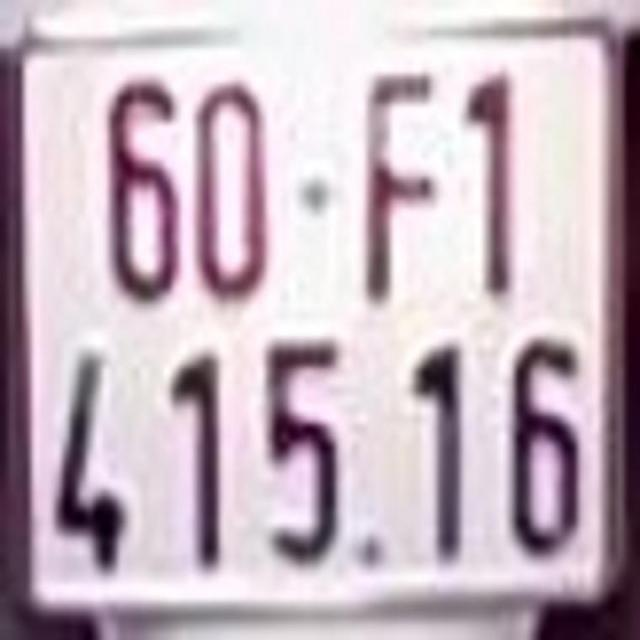0: (188, 72, 274, 304)
1: (461, 59, 526, 300), (164, 340, 228, 572), (408, 332, 468, 566)
4: (44, 339, 128, 568)
5: (260, 331, 341, 564)
6: (100, 67, 184, 300), (506, 328, 584, 558)
F: (352, 65, 444, 306)
